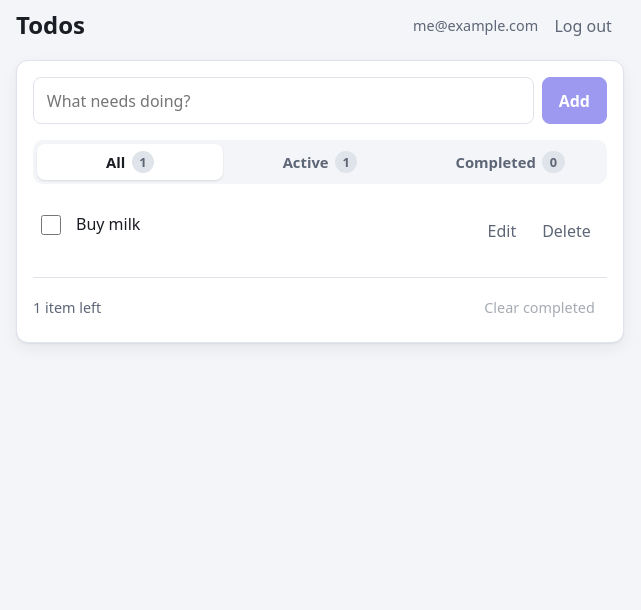
it: auth flow › sends the user to login when the session expires mid-use
Click the checkbox named "Buy milk" at (51, 225), box [41, 215, 61, 235]
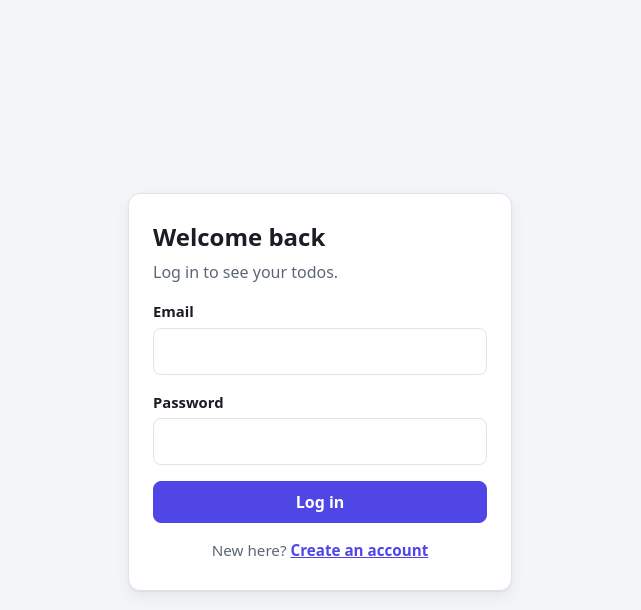
Expected: the heading "Welcome back" is shown, [153, 220, 325, 253]
